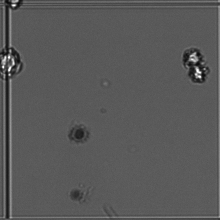Dead Cell: (65, 121, 92, 148), (66, 185, 86, 205)
Living Cell: (1, 46, 35, 81), (186, 66, 212, 92), (182, 45, 205, 68), (4, 1, 26, 22)
